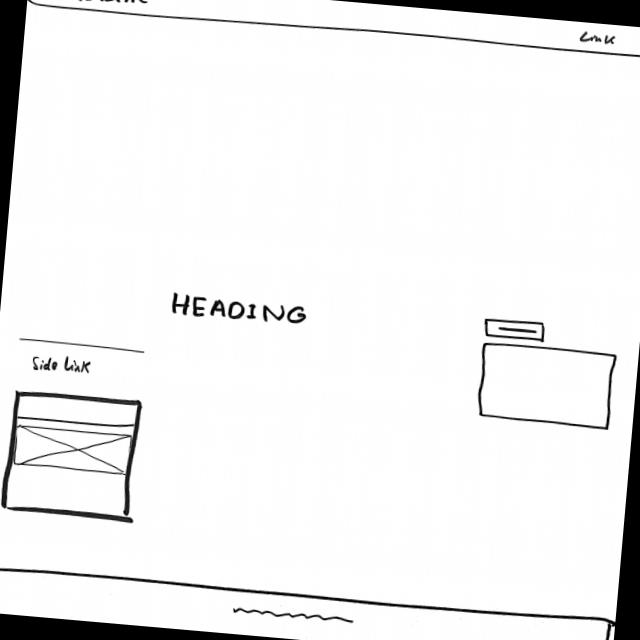container: (27, 1, 640, 60), (1, 388, 145, 522), (474, 341, 621, 433)
icon-button: (483, 318, 548, 343)
image: (11, 424, 133, 478)
label: (167, 289, 310, 329), (30, 354, 96, 377), (577, 29, 619, 48), (52, 1, 148, 9)
text: (232, 604, 357, 628)
